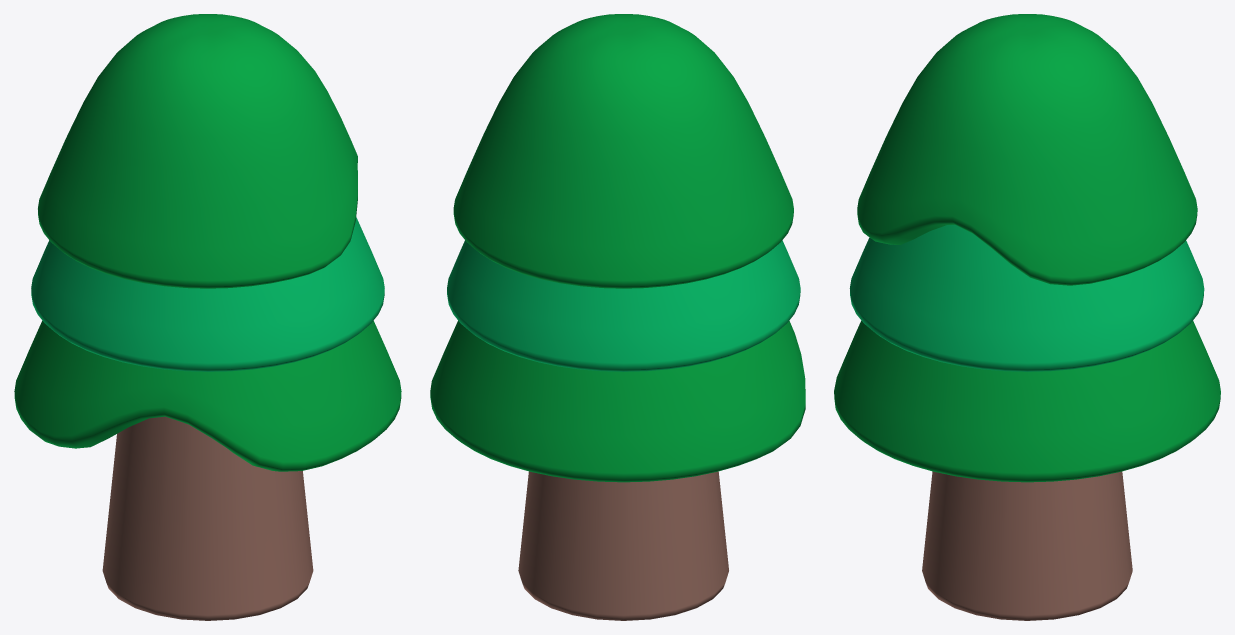
The model's file is City_17_Tree_1.glb.
3 views of the same model, side by side, from view 1: azimuth 30°, elevation 25°; view 2: azimuth 150°, elevation 25°; view 3: azimuth 270°, elevation 25° (orthographic).
Parts seen in each view (by area): view 1: City_17_Tree_1; view 2: City_17_Tree_1; view 3: City_17_Tree_1.
Part boxes in pixels (bbox=[...]): City_17_Tree_1: bbox=[14, 14, 401, 620]; City_17_Tree_1: bbox=[430, 14, 805, 620]; City_17_Tree_1: bbox=[834, 14, 1220, 620].
Size of the model in its own units: 1.82 by 2.87 by 1.82.
1 material, 1 textured.
